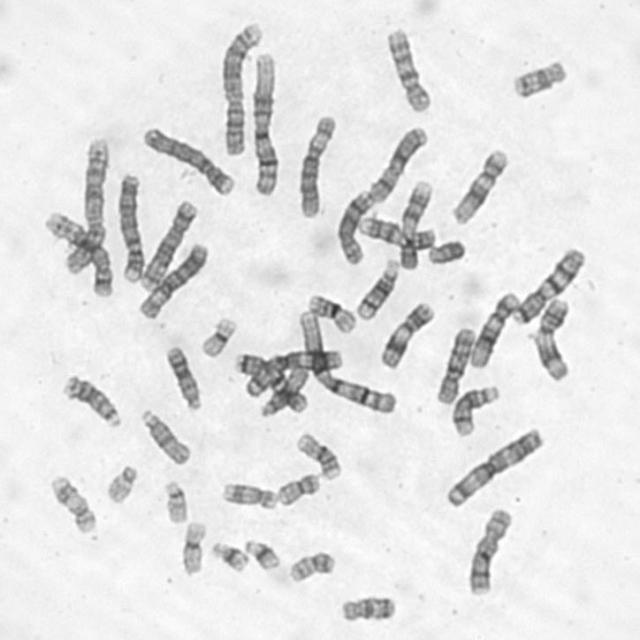A1: (292, 303, 399, 415), (246, 45, 281, 197)
A2: (58, 132, 112, 277), (216, 15, 264, 157)
A3: (440, 421, 548, 509), (238, 344, 344, 399)
B4: (137, 120, 237, 197), (112, 167, 146, 284)
B5: (38, 205, 114, 298), (134, 193, 200, 292)
C10: (381, 22, 433, 115), (430, 322, 478, 406)
C11: (374, 296, 436, 371), (528, 292, 572, 382)
C12: (446, 143, 510, 226), (465, 286, 521, 370)
C6: (132, 238, 210, 322), (292, 108, 339, 219)
C7: (506, 242, 587, 326), (229, 346, 308, 414)
C8: (462, 502, 514, 598), (331, 184, 374, 266)
C9: (393, 174, 435, 270), (354, 210, 436, 251)
D13: (58, 368, 123, 429), (160, 339, 203, 412)
D14: (351, 253, 401, 321), (446, 380, 502, 438)
D15: (135, 403, 193, 467), (254, 361, 311, 418)
E16: (291, 427, 343, 481), (303, 288, 358, 334)
E17: (45, 468, 98, 536), (218, 476, 278, 511)
E18: (506, 52, 570, 100), (335, 590, 398, 624)
F19: (194, 311, 238, 359), (175, 516, 208, 578)
F20: (283, 545, 337, 584), (272, 467, 322, 507)
G21: (206, 536, 250, 574), (239, 534, 282, 572)
G22: (100, 459, 139, 505), (158, 474, 190, 526)
X: (363, 120, 430, 204)
Y: (422, 234, 467, 266)
